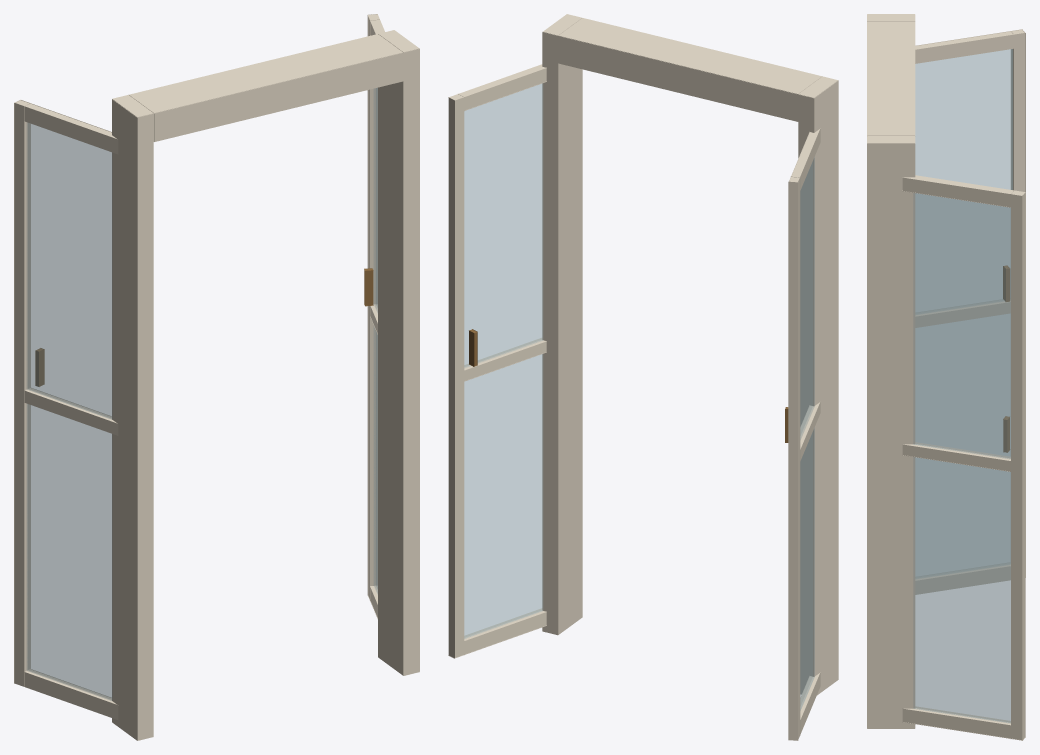
Rendered from exit-window.glb.
The picture shows the model from 3 angles, left to right: view 1: azimuth 30°, elevation 25°; view 2: azimuth 150°, elevation 25°; view 3: azimuth 270°, elevation 25°; orthographic projection. The views are drawn at different scales.
Visible parts, largest first — view 1: FrenchFramePost, FrenchFramePost.001, OpenCasementGlazing.001, OpenCasementGlazing, FrenchFrameHeader, OpenCasementStile.001, OpenCasementStile.003, OpenCasementRail.001, OpenCasementRail, OpenCasementMeetingRail, OpenCasementGlazing.002, OpenCasementGlazing.003; view 2: FrenchFramePost.001, FrenchFramePost, OpenCasementGlazing.002, OpenCasementGlazing.003, FrenchFrameHeader, OpenCasementStile.003, OpenCasementStile.001, OpenCasementGlazing, OpenCasementGlazing.001, OpenCasementRail.003, OpenCasementRail.002, OpenCasementMeetingRail.001 (+2 smaller); view 3: FrenchFramePost.001, OpenCasementGlazing.003, OpenCasementGlazing.002, OpenCasementGlazing.001, OpenCasementGlazing, OpenCasementStile.003, FrenchFrameHeader, OpenCasementStile.001, OpenCasementRail.003, OpenCasementRail.002, OpenCasementRail.001, OpenCasementRail (+4 smaller).
Part boxes in pixels (x1=…): FrenchFramePost: x1=112, y1=95, x2=153, y2=740; FrenchFramePost.001: x1=378, y1=30, x2=419, y2=675; OpenCasementGlazing.001: x1=26, y1=122, x2=112, y2=419; OpenCasementGlazing: x1=27, y1=404, x2=112, y2=700; FrenchFrameHeader: x1=129, y1=34, x2=403, y2=141; OpenCasementStile.001: x1=14, y1=99, x2=30, y2=686; OpenCasementStile.003: x1=367, y1=14, x2=379, y2=599; OpenCasementRail.001: x1=24, y1=103, x2=118, y2=154; OpenCasementRail: x1=24, y1=669, x2=118, y2=719; OpenCasementMeetingRail: x1=24, y1=387, x2=118, y2=435; OpenCasementGlazing.002: x1=373, y1=327, x2=377, y2=594; OpenCasementGlazing.003: x1=373, y1=87, x2=377, y2=312; FrenchFramePost.001: x1=542, y1=14, x2=582, y2=635; FrenchFramePost: x1=798, y1=76, x2=838, y2=695; OpenCasementGlazing.002: x1=464, y1=354, x2=542, y2=638; OpenCasementGlazing.003: x1=464, y1=83, x2=542, y2=367; FrenchFrameHeader: x1=558, y1=18, x2=822, y2=121; OpenCasementStile.003: x1=448, y1=94, x2=464, y2=658; OpenCasementStile.001: x1=788, y1=176, x2=800, y2=740; OpenCasementGlazing: x1=800, y1=428, x2=814, y2=710; OpenCasementGlazing.001: x1=800, y1=157, x2=814, y2=439; OpenCasementRail.003: x1=458, y1=64, x2=546, y2=111; OpenCasementRail.002: x1=464, y1=608, x2=546, y2=654; OpenCasementMeetingRail.001: x1=464, y1=338, x2=546, y2=381; FrenchFramePost.001: x1=867, y1=136, x2=915, y2=728; OpenCasementGlazing.003: x1=913, y1=193, x2=1010, y2=458; OpenCasementGlazing.002: x1=913, y1=457, x2=1010, y2=723; OpenCasementGlazing.001: x1=915, y1=49, x2=1012, y2=314; OpenCasementGlazing: x1=915, y1=314, x2=1010, y2=578; OpenCasementStile.003: x1=1011, y1=190, x2=1025, y2=740; FrenchFrameHeader: x1=867, y1=21, x2=915, y2=135; OpenCasementStile.001: x1=1010, y1=29, x2=1025, y2=577; OpenCasementRail.003: x1=902, y1=175, x2=1014, y2=207; OpenCasementRail.002: x1=902, y1=706, x2=1010, y2=738; OpenCasementRail.001: x1=915, y1=31, x2=1014, y2=63; OpenCasementRail: x1=915, y1=562, x2=1010, y2=594.
Size of the model in its own units: 1.31 by 2.15 by 0.5281.
